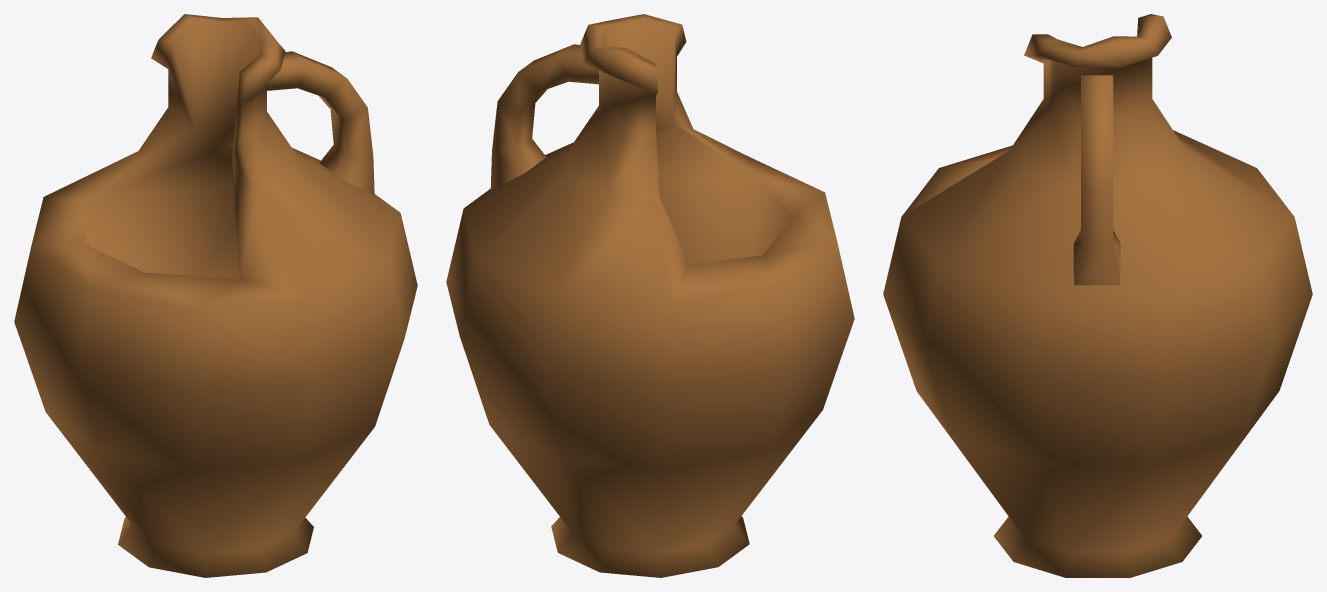
File: rpgpp_av_jug_02a.gltf
3 renders of one model, left to right at view 1: azimuth 30°, elevation 25°; view 2: azimuth 150°, elevation 25°; view 3: azimuth 270°, elevation 25°, orthographic. The views are drawn at different scales.
Parts seen in each view (by area): view 1: rpgpp_av_jug_02a; view 2: rpgpp_av_jug_02a; view 3: rpgpp_av_jug_02a.
Part boxes in pixels (left/top/right/bottom): rpgpp_av_jug_02a: left=14, top=14, right=417, bottom=577; rpgpp_av_jug_02a: left=446, top=14, right=854, bottom=577; rpgpp_av_jug_02a: left=883, top=14, right=1312, bottom=577.
Bounding box in the file's own units: 0.00298 × 0.00418 × 0.00313.
1 material, 1 textured.
